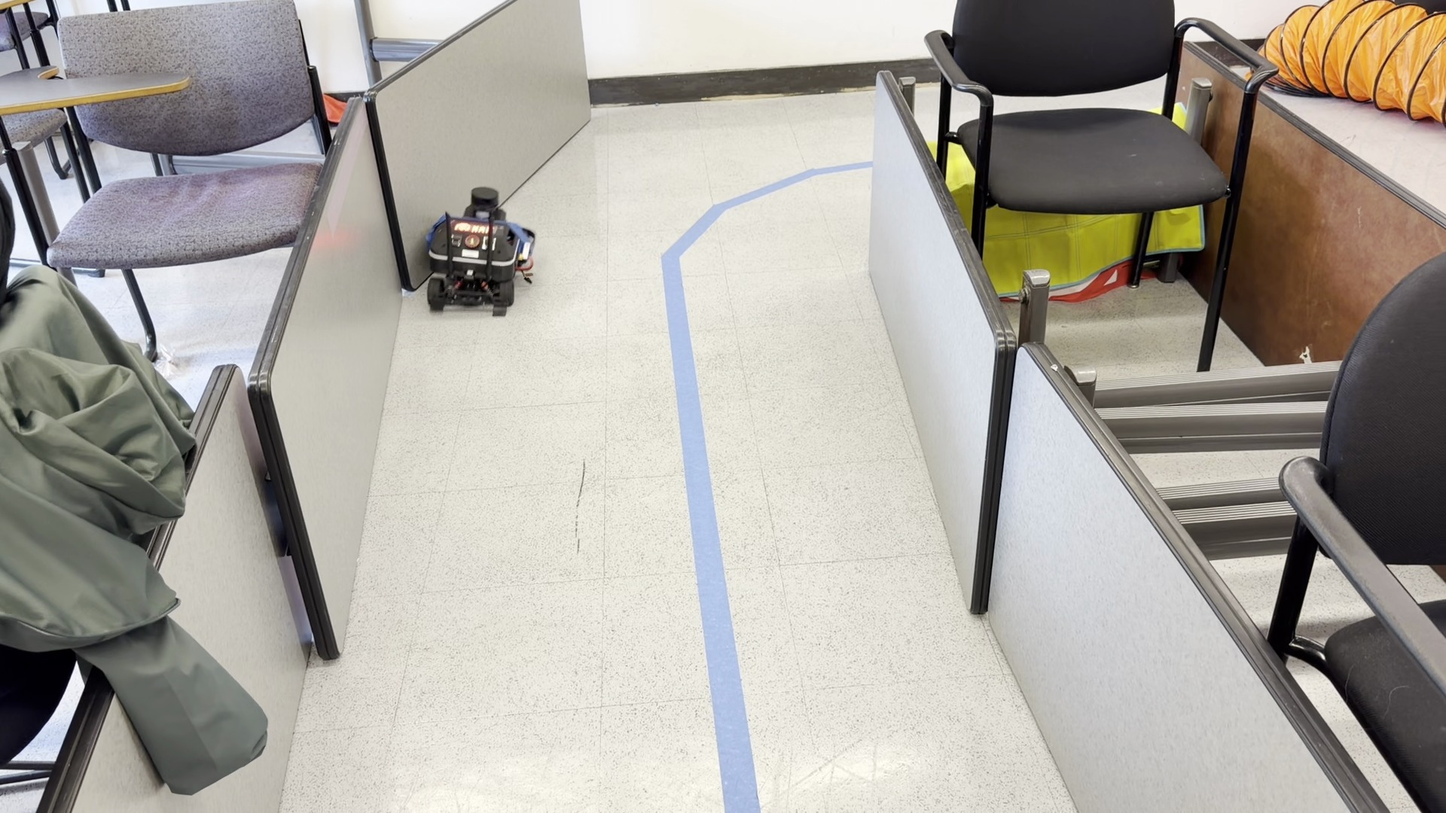racecar: (423, 187, 534, 314)
